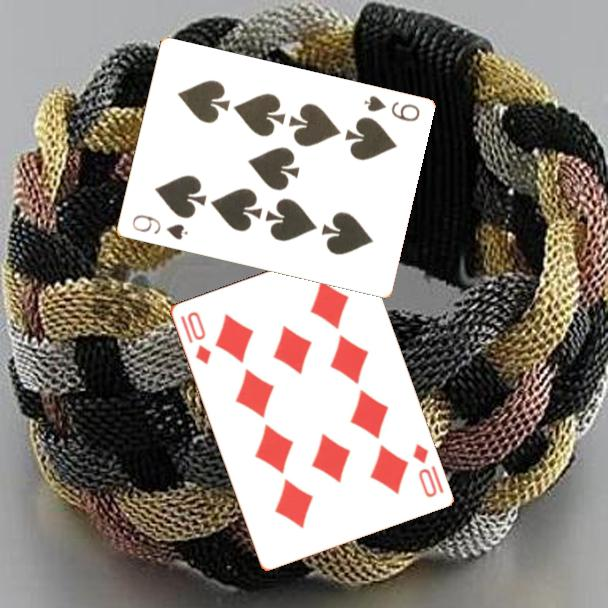d10: (176, 308, 214, 367), (409, 440, 446, 500)
s09: (360, 92, 422, 125), (128, 211, 190, 243)
